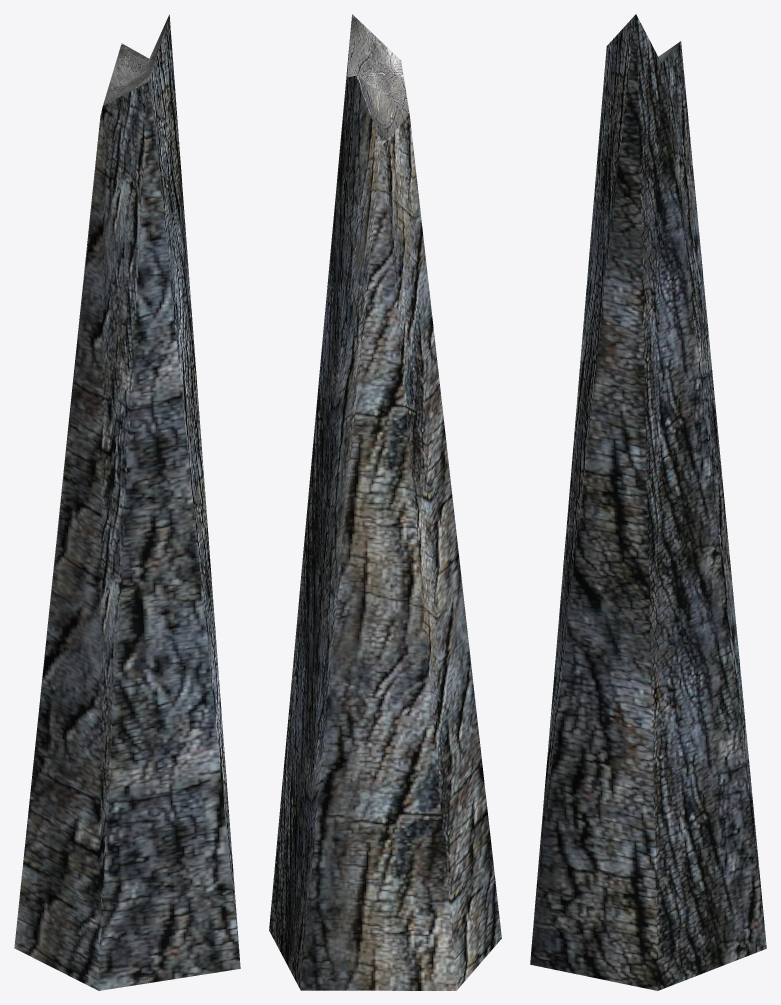
Rendered from decd_scorched_massassi_broke_l3.fbx.
The picture shows the model from 3 angles, left to right: view 1: azimuth 30°, elevation 25°; view 2: azimuth 150°, elevation 25°; view 3: azimuth 270°, elevation 25°; orthographic projection. The views are drawn at different scales.
Visible parts, largest first — view 1: mesh_node; view 2: mesh_node; view 3: mesh_node.
Boxes of the visible parts, x1,y1,x2,y2 form: mesh_node: [14, 14, 240, 990]; mesh_node: [269, 14, 501, 990]; mesh_node: [530, 14, 766, 990].
Size of the model in its own units: 10.04 by 43.87 by 10.
Materials: 2 (2 with a texture image).
